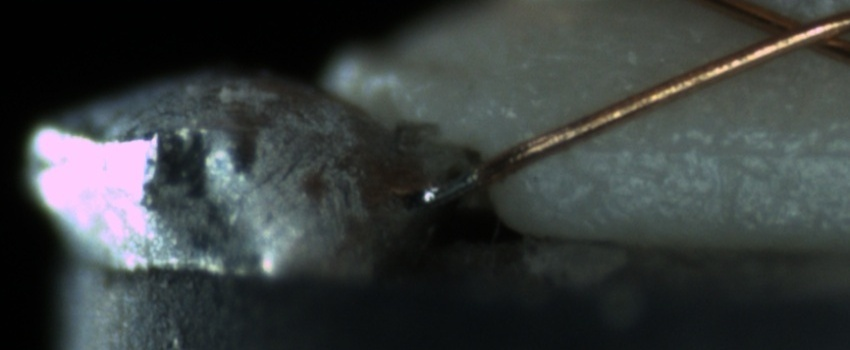CL: (739, 2, 846, 63)
DL: (568, 116, 846, 179)
TS: (413, 166, 481, 213)
